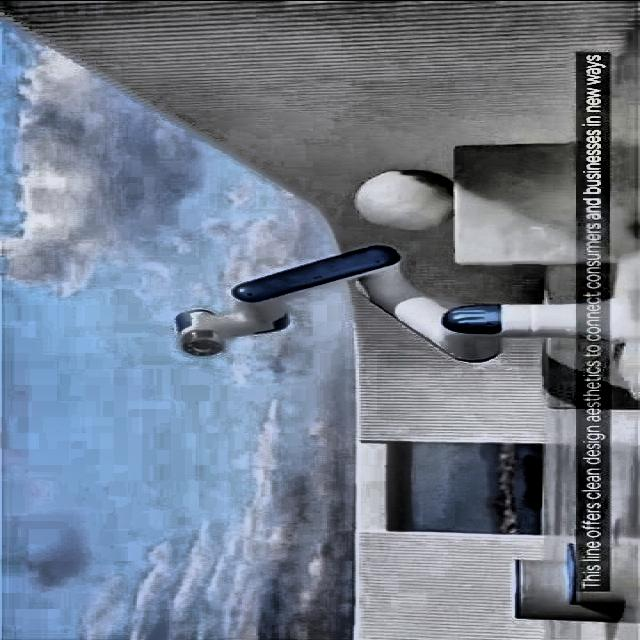robot: (170, 244, 572, 363)
